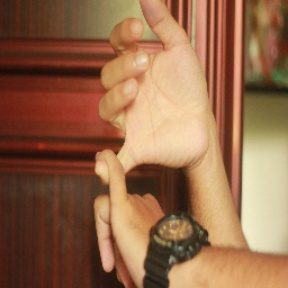S: (85, 2, 211, 287)
